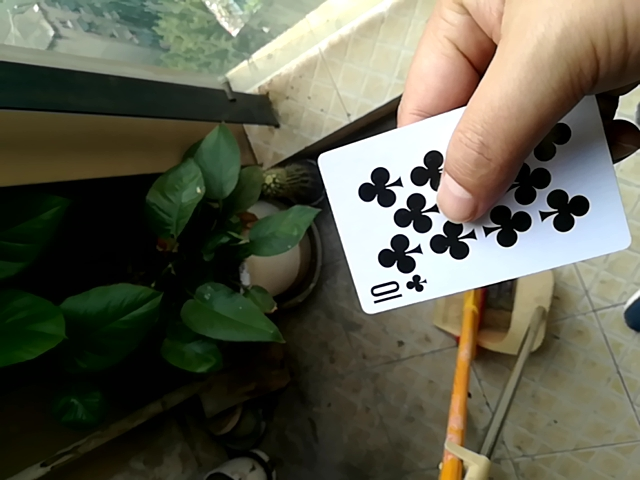mh 10: (299, 94, 639, 323)
